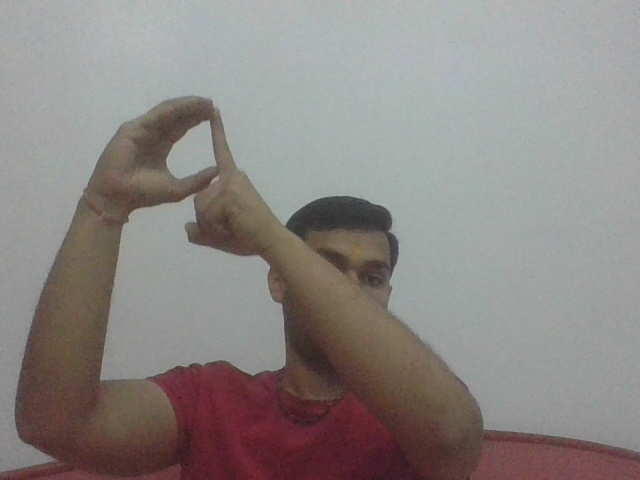D: (92, 90, 265, 256)
